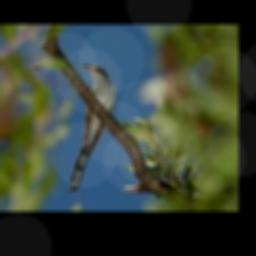Cuckoo: (69, 64, 115, 192)
